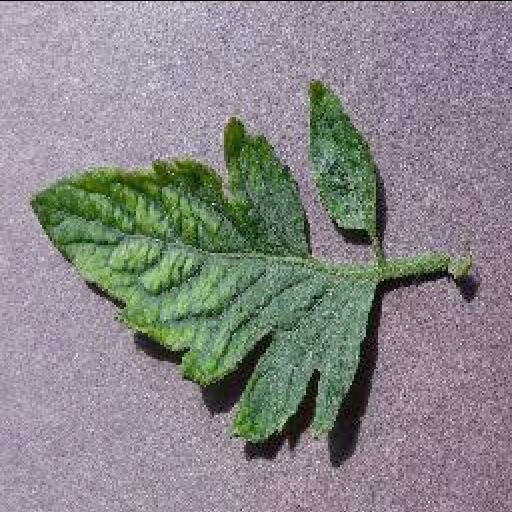Mosaic Virus: (22, 110, 382, 440)
